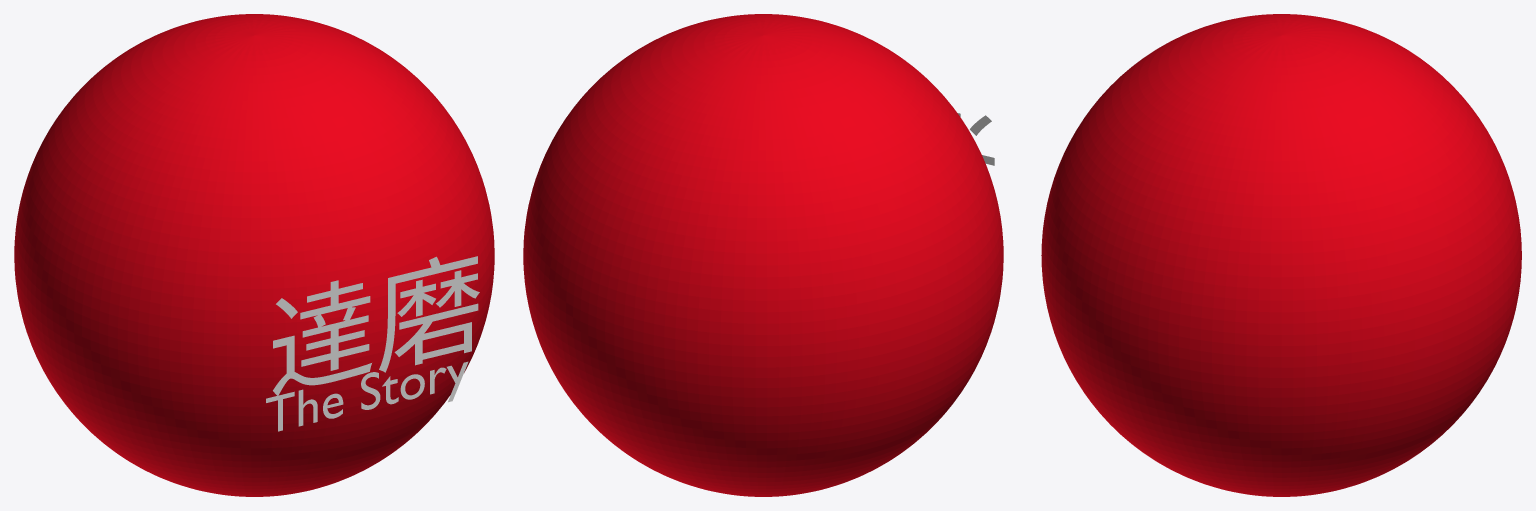
The model's file is Start4.glb.
3 renders of one model, left to right at view 1: azimuth 30°, elevation 25°; view 2: azimuth 150°, elevation 25°; view 3: azimuth 270°, elevation 25°, orthographic.
Parts seen in each view (by area): view 1: Sphere, 達磨, Text; view 2: Sphere; view 3: Sphere.
Part boxes in pixels (x1,y1,x2,y2): Sphere: (14,14,494,496); 達磨: (273,256,479,396); Text: (266,361,468,431); Sphere: (523,14,1003,496); Sphere: (1041,14,1521,496).
Bounding box in the file's own units: 2.81 × 2.84 × 2.87.
